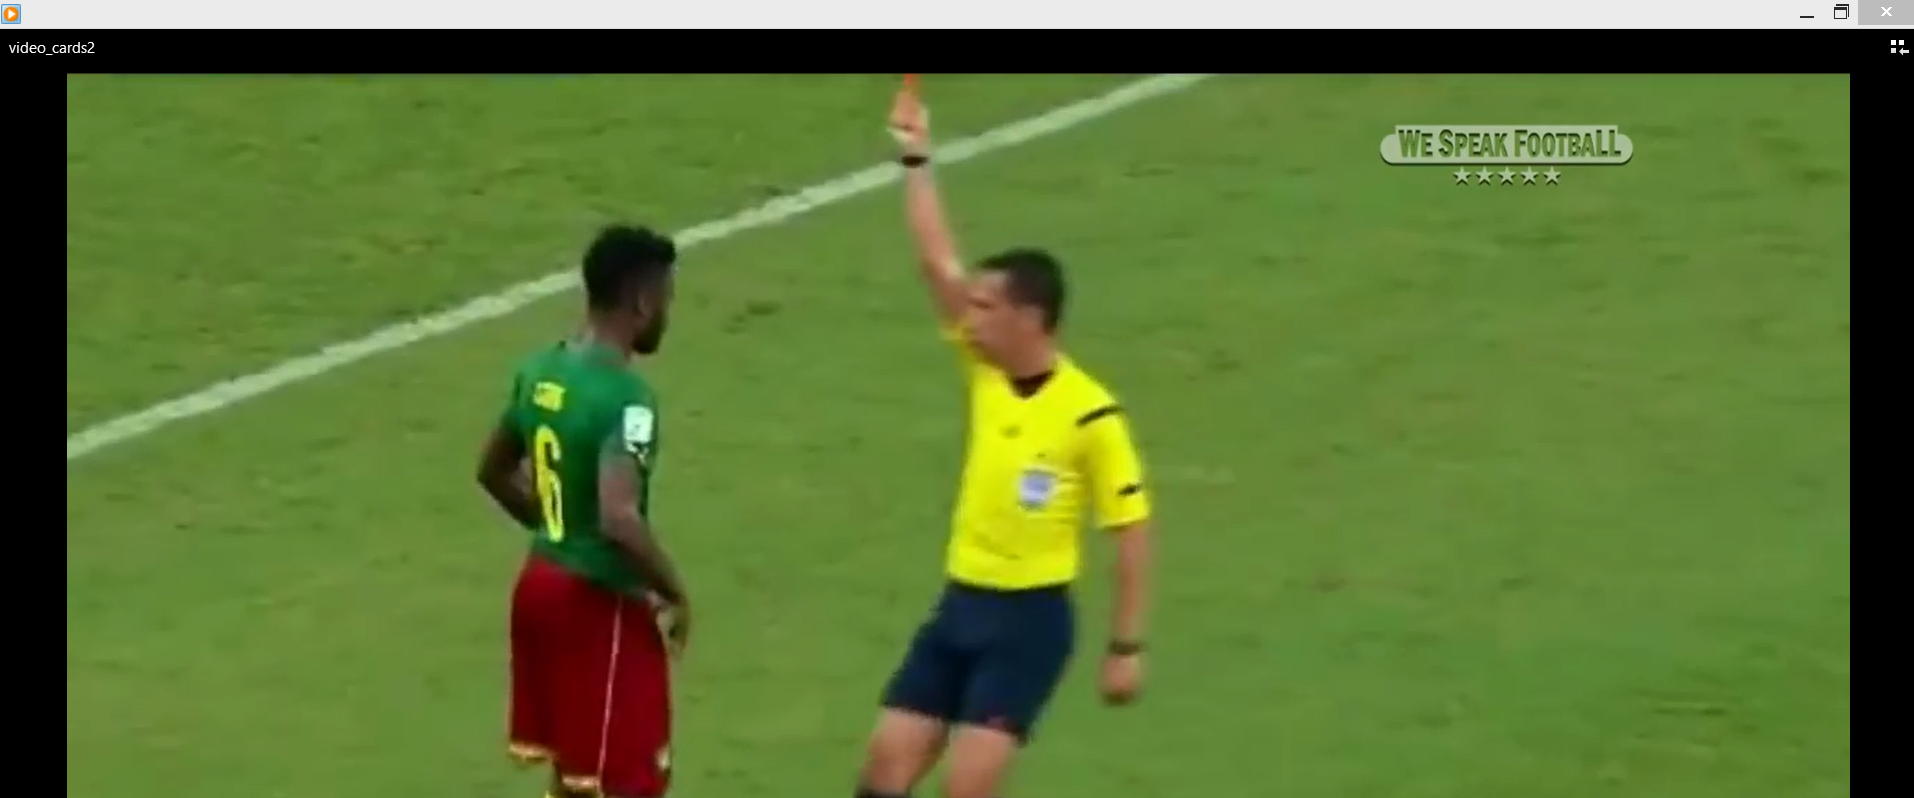red_card: (874, 70, 933, 134)
